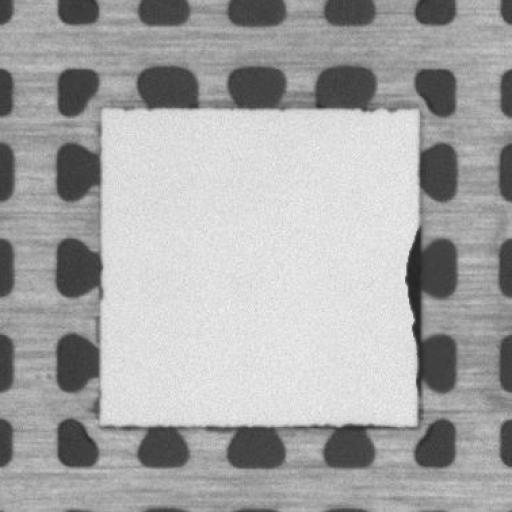DIE_BROKEN: (402, 216, 423, 397)
